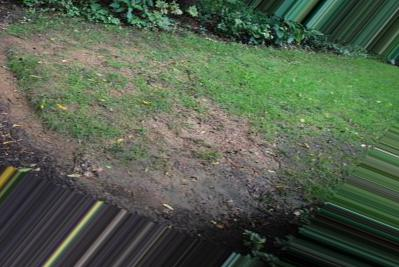patch: (163, 117, 253, 190), (71, 151, 159, 204), (8, 93, 64, 157), (60, 39, 139, 76)
